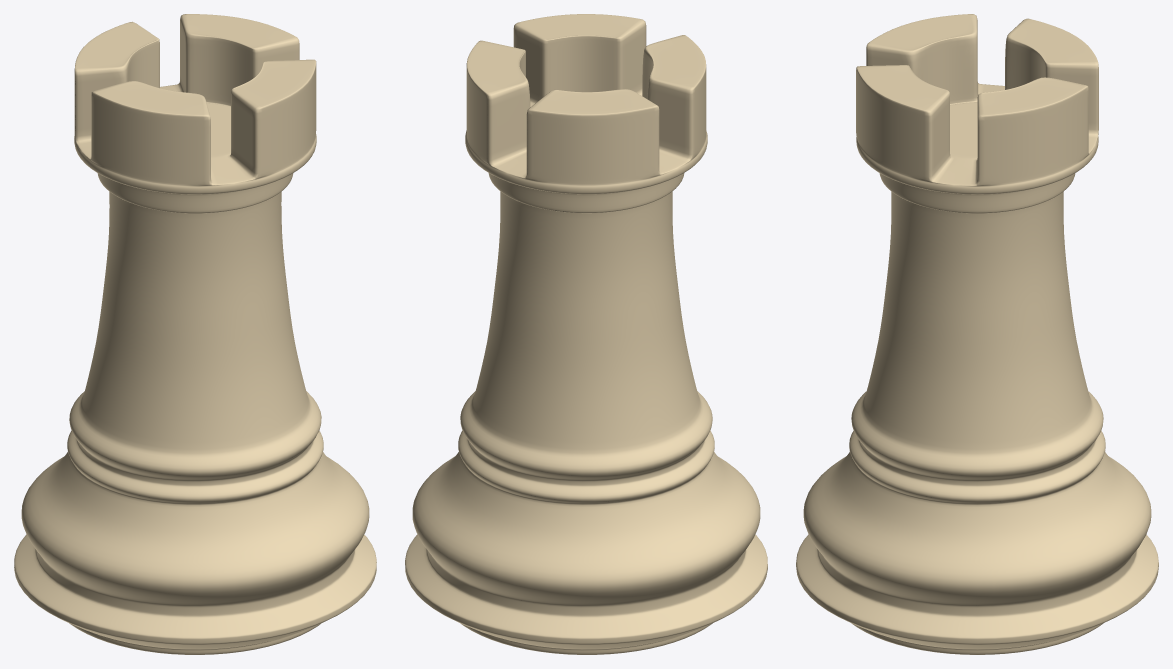
The model's file is gercektam_r_w.glb.
3 renders of one model, left to right at view 1: azimuth 30°, elevation 25°; view 2: azimuth 150°, elevation 25°; view 3: azimuth 270°, elevation 25°, orthographic.
Parts seen in each view (by area): view 1: Sphere.017; view 2: Sphere.017; view 3: Sphere.017.
Part boxes in pixels (x1,y1,x2,y2): Sphere.017: (14,14,376,654); Sphere.017: (405,14,767,654); Sphere.017: (796,14,1158,654).
Size of the model in its own units: 1.15 by 1.85 by 1.15.
